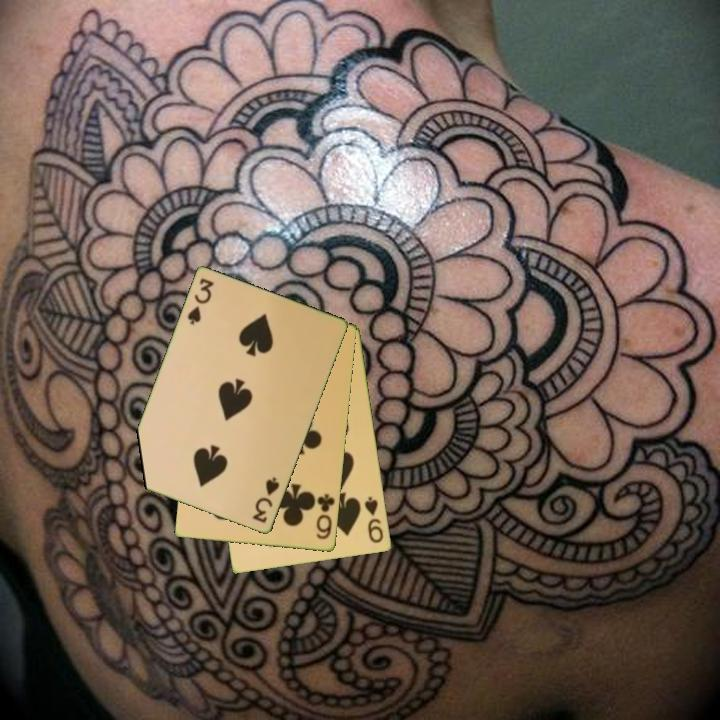3s: (249, 474, 283, 526), (184, 275, 217, 328)
6c: (313, 490, 338, 543)
9s: (361, 493, 387, 546)
